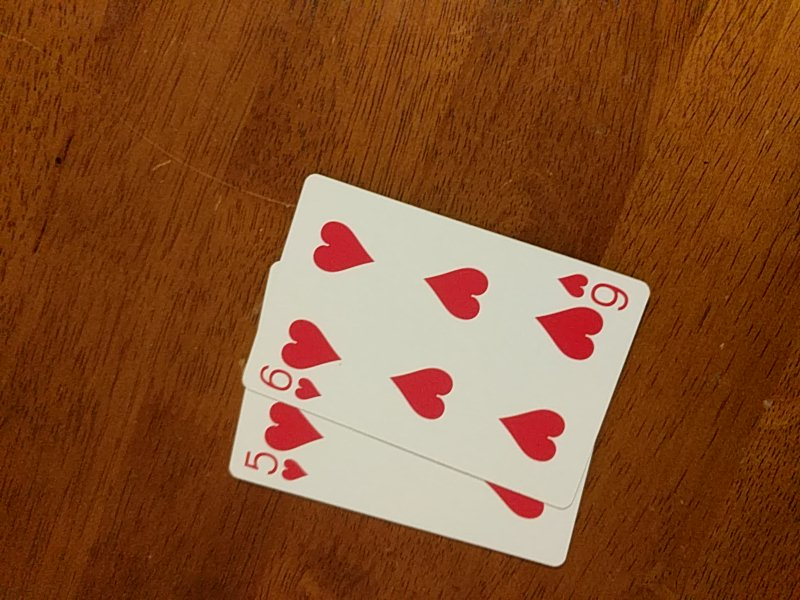Hearts: (243, 171, 656, 506), (227, 390, 597, 570)
